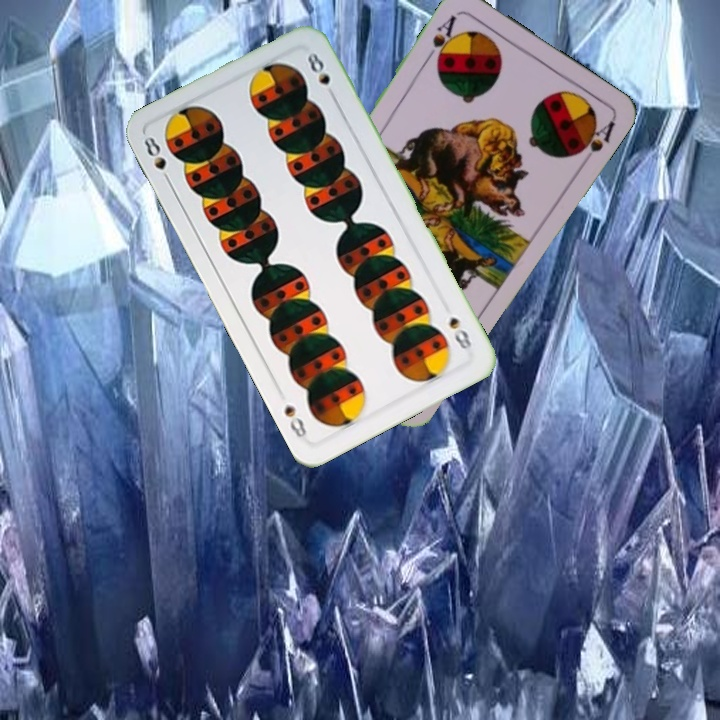S8: (139, 132, 175, 188), (445, 312, 474, 352)
SA: (422, 11, 461, 68)
